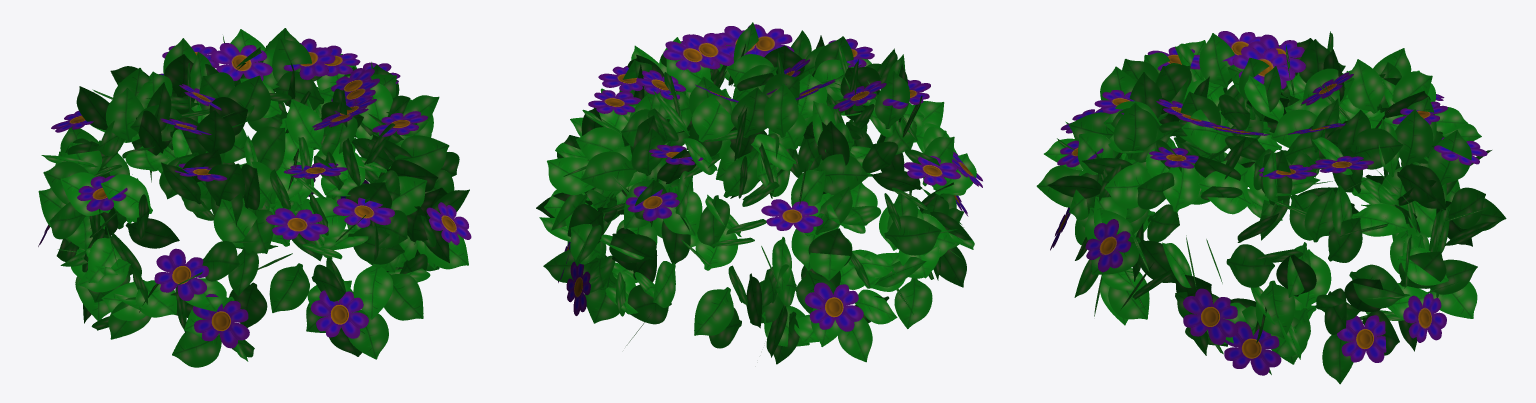
File: model_ArbustoFlorAzul_01.fbx
3 views of the same model, side by side, from view 1: azimuth 30°, elevation 25°; view 2: azimuth 150°, elevation 25°; view 3: azimuth 270°, elevation 25° (orthographic).
Parts seen in each view (by area): view 1: BlushWithBlueFlowers; view 2: BlushWithBlueFlowers; view 3: BlushWithBlueFlowers.
Part boxes in pixels (box(x1,y1,x2,y2)): BlushWithBlueFlowers: box(38, 28, 471, 367); BlushWithBlueFlowers: box(536, 22, 982, 364); BlushWithBlueFlowers: box(1036, 31, 1506, 384).
Size of the model in its own units: 281 by 178 by 284.
